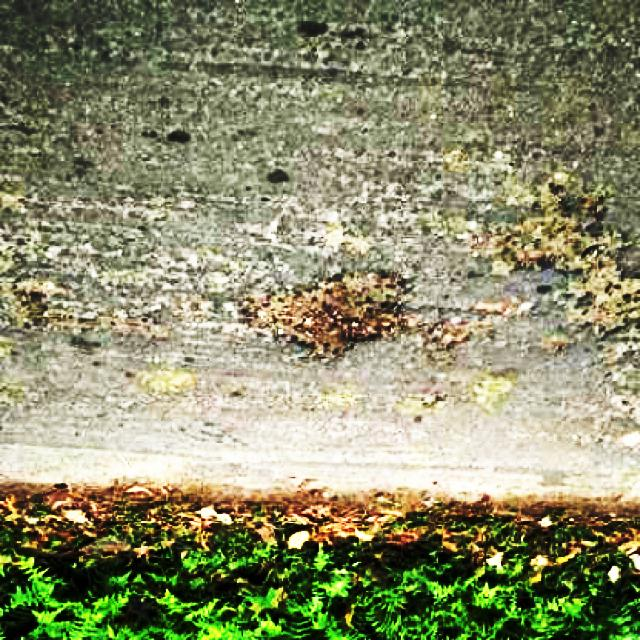pothole: (486, 205, 640, 349), (243, 265, 412, 357)
